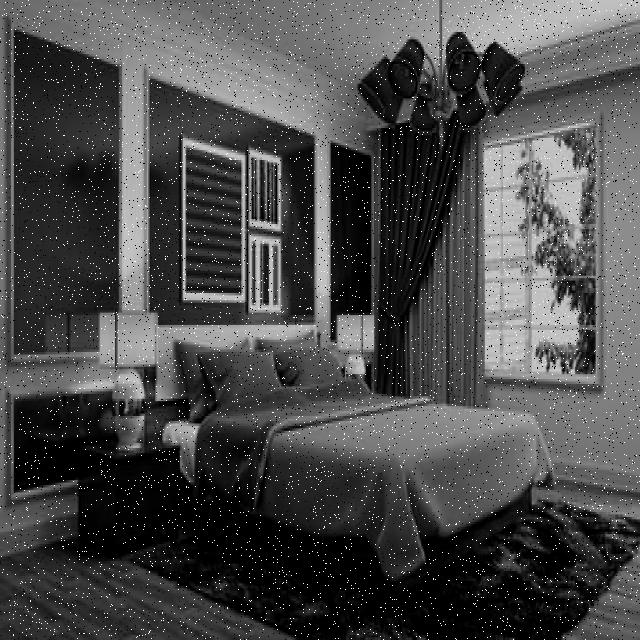bed: (177, 328, 525, 568)
